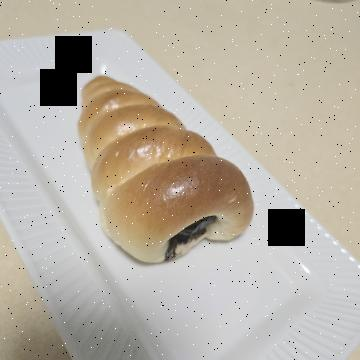cream horn: (50, 103, 272, 296)
